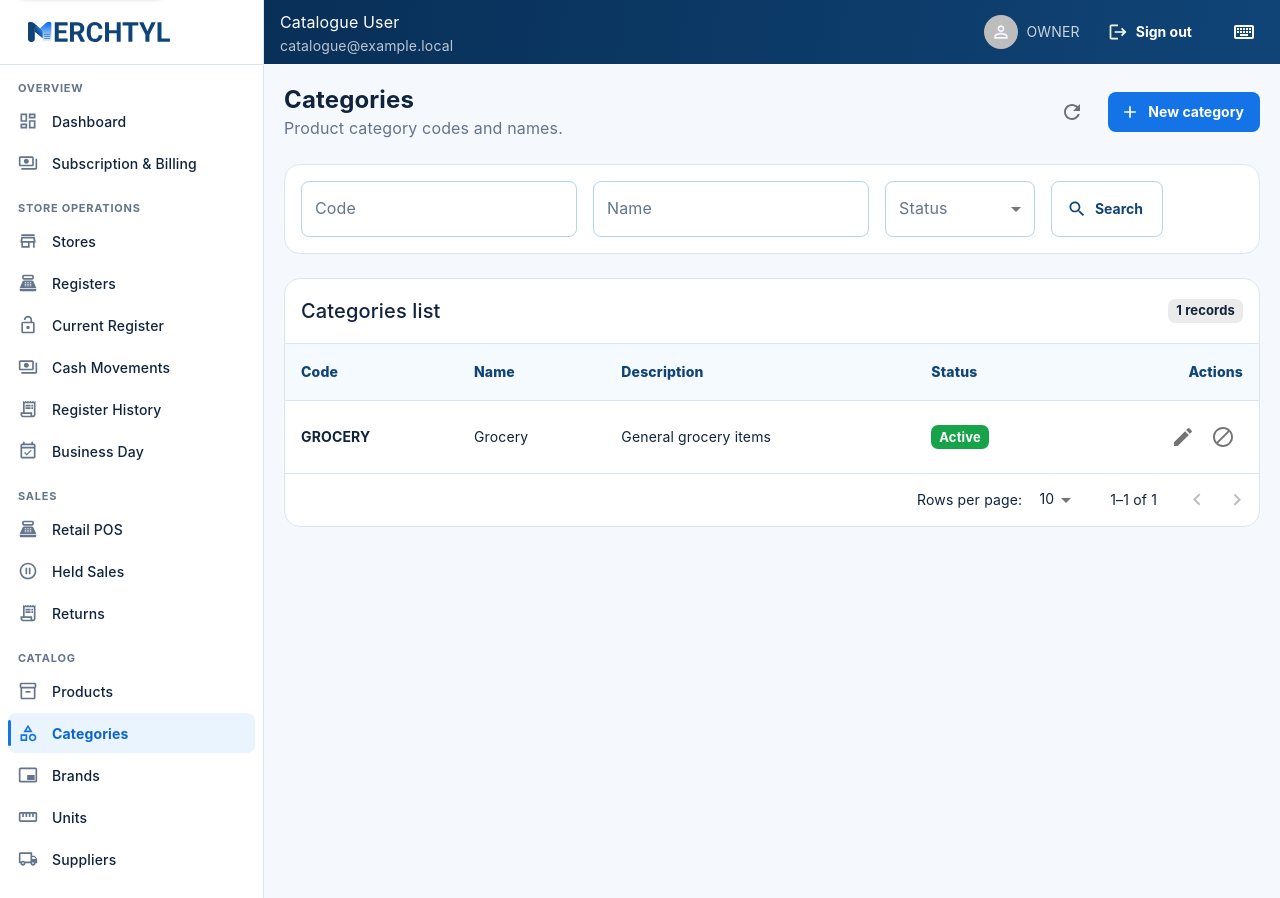
it: Catalogue reference pages › searches, creates, and deactivates categories
Expected: the heading "Categories" is shown, [284, 85, 414, 114]
Expected: the text "Grocery" is shown, [458, 400, 605, 474]
Type "dai" into the field labelled "Name" at (731, 209), box [593, 181, 869, 237]
Click the button "Search" at (1107, 209), box [1051, 181, 1163, 237]
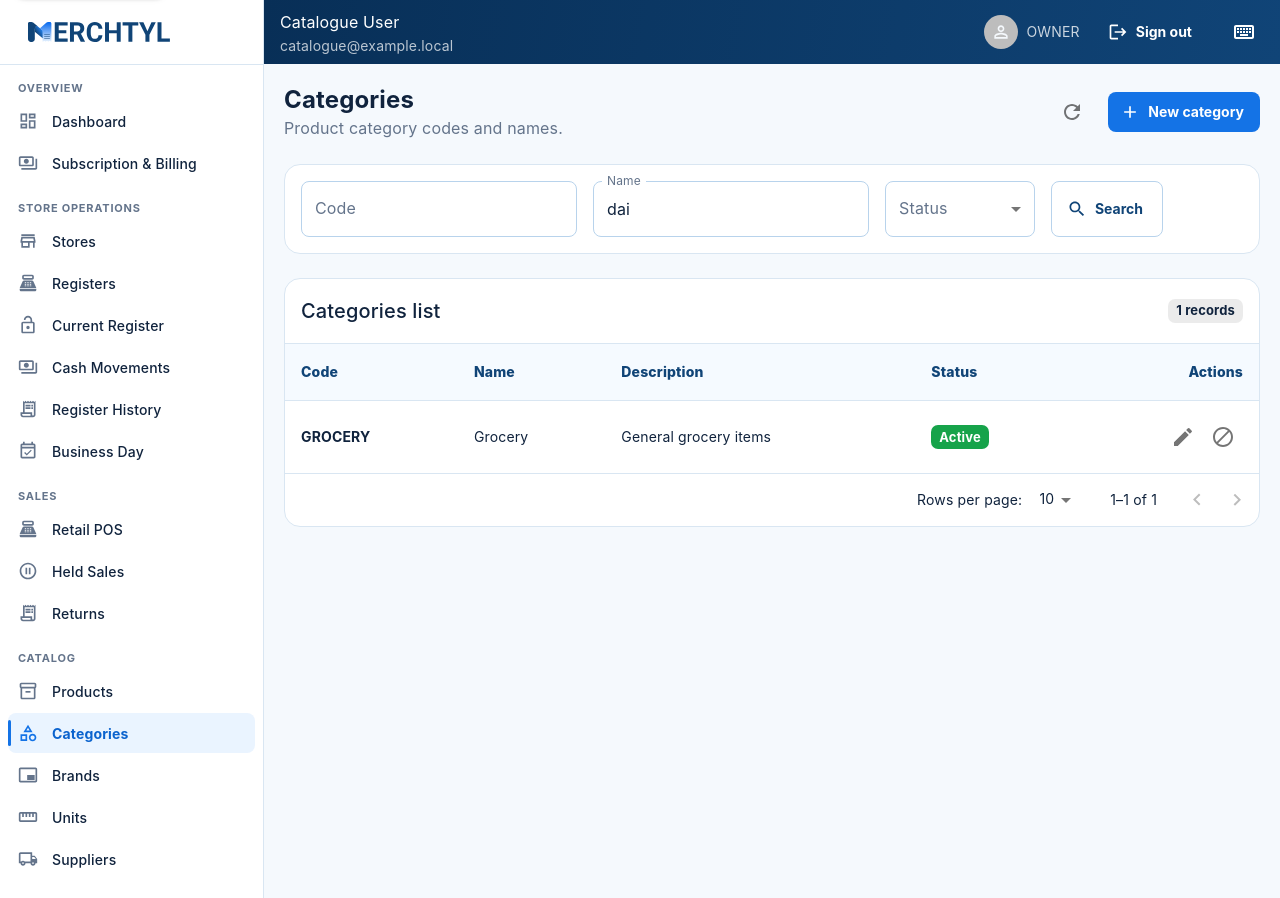
Click the button "New category" at (1184, 112), box [1108, 92, 1260, 132]
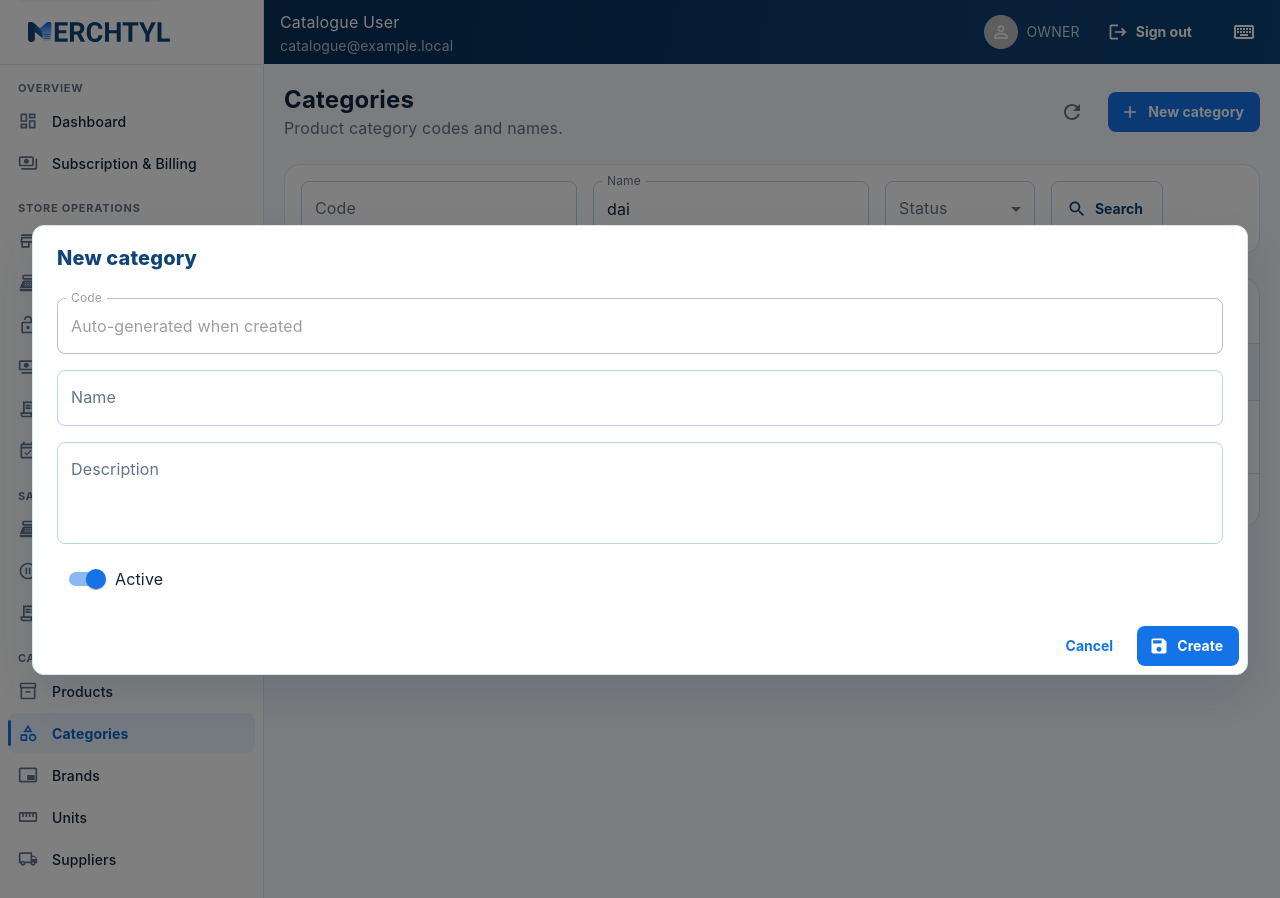
Expected: the field showing "Auto-generated when created" is disabled, [57, 298, 1223, 354]
Type "Dairy" into the field labelled "Name" at (640, 398), box [57, 370, 1223, 426]
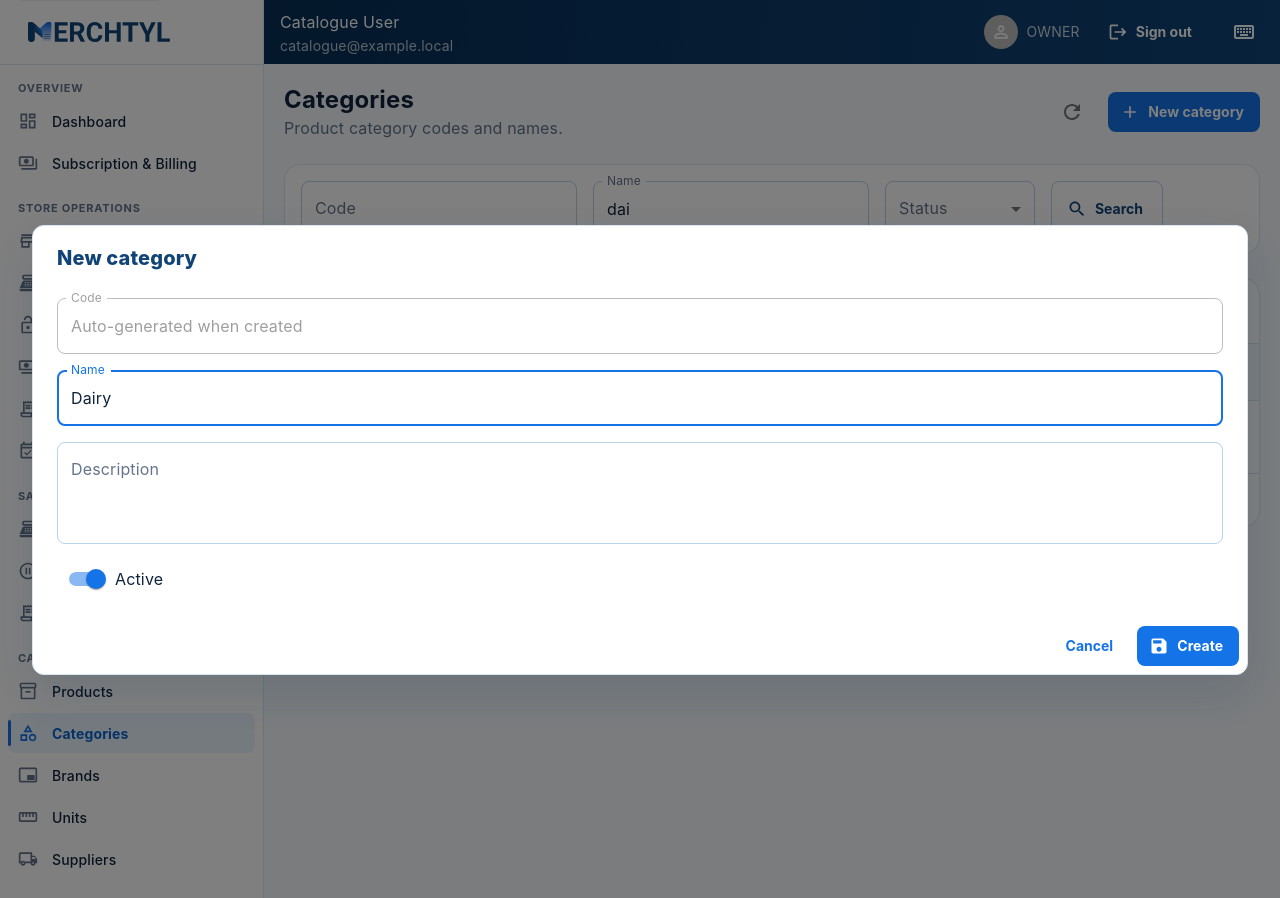
Type "Cold dairy items" into the text box labelled "Description" at (640, 493), box [71, 458, 1209, 528]
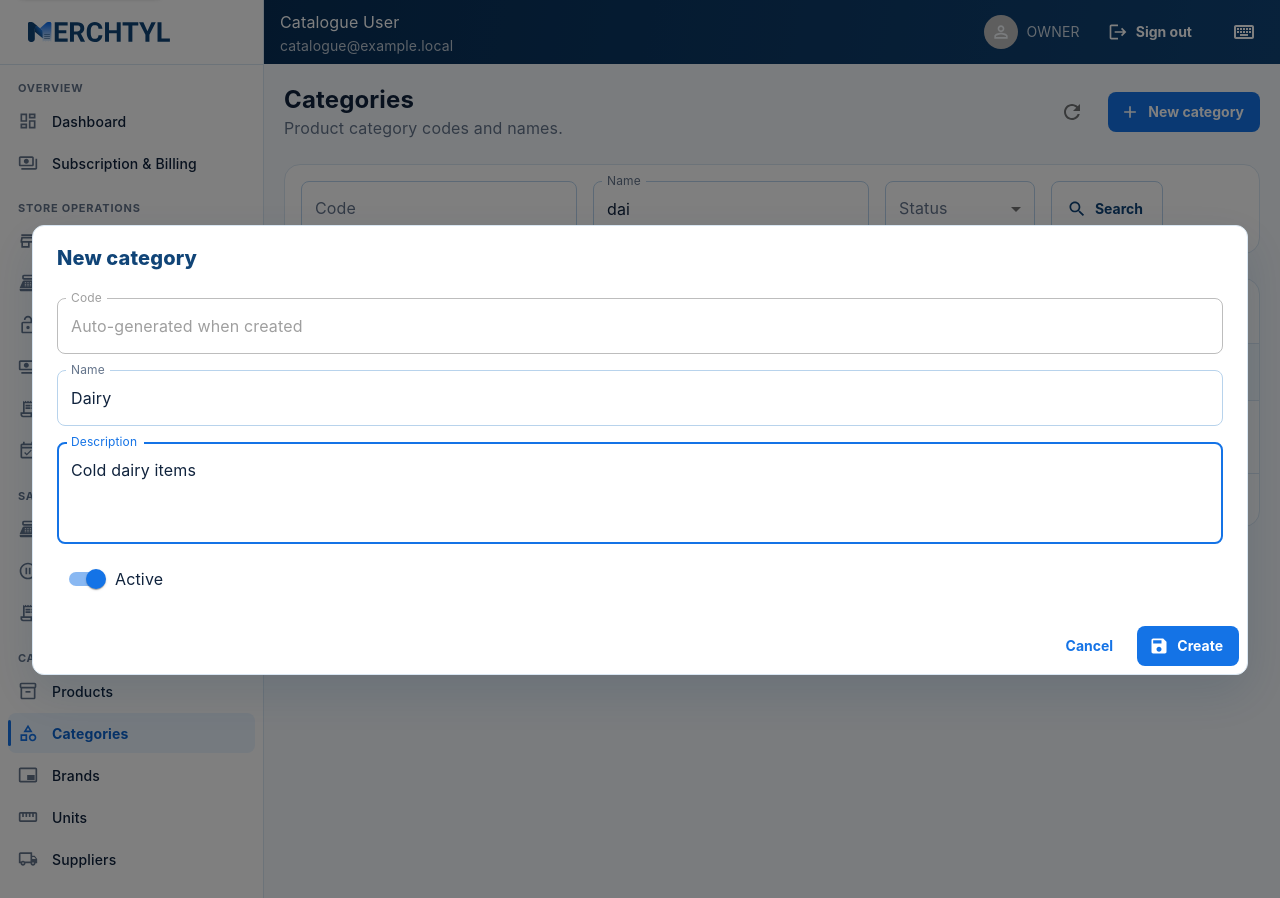
Click the button "Create" at (1188, 646), box [1137, 626, 1239, 666]
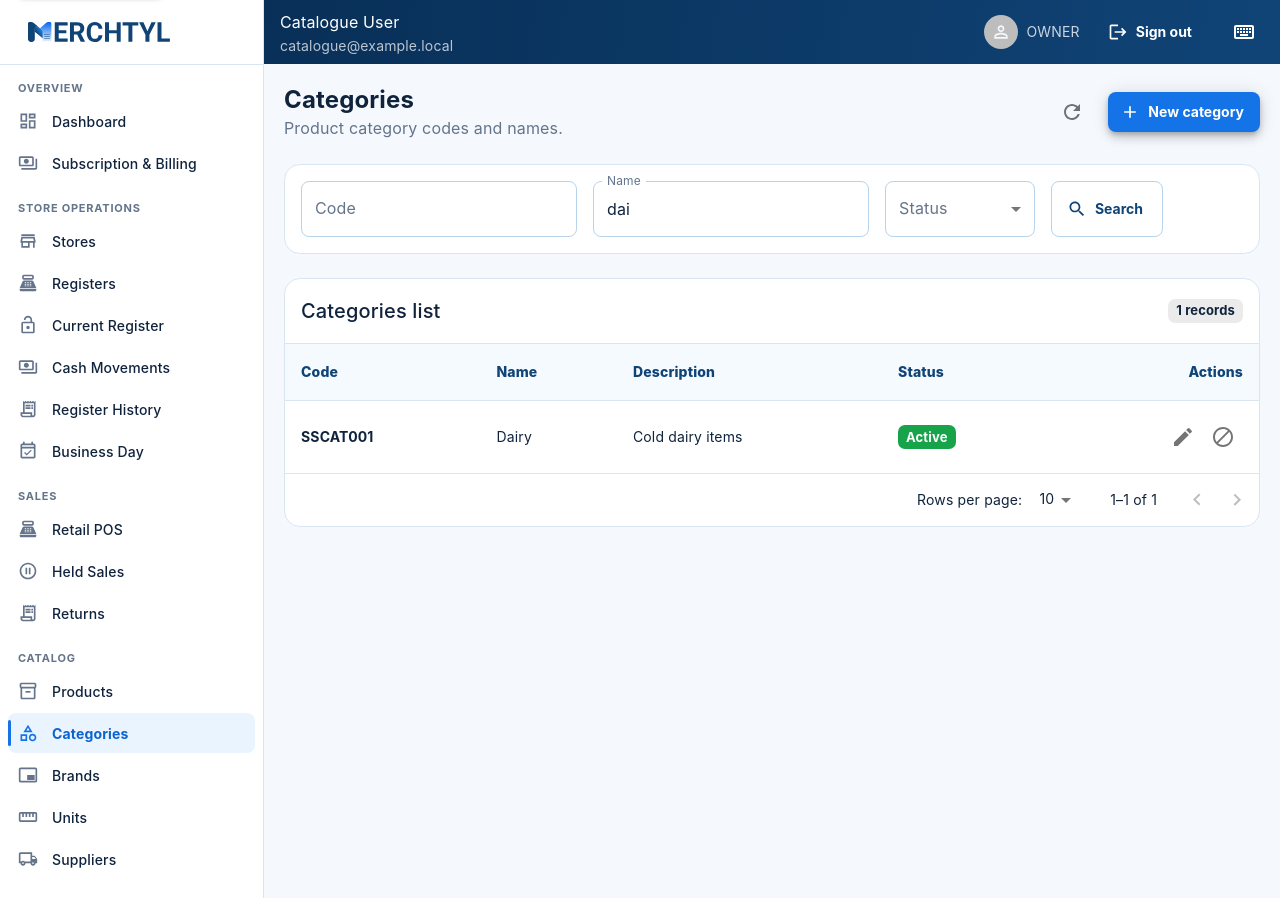
Expected: the text "SSCAT001" is shown, [285, 400, 480, 474]
Click the button named "Deactivate Dairy" at (1223, 437), box [1203, 417, 1243, 457]
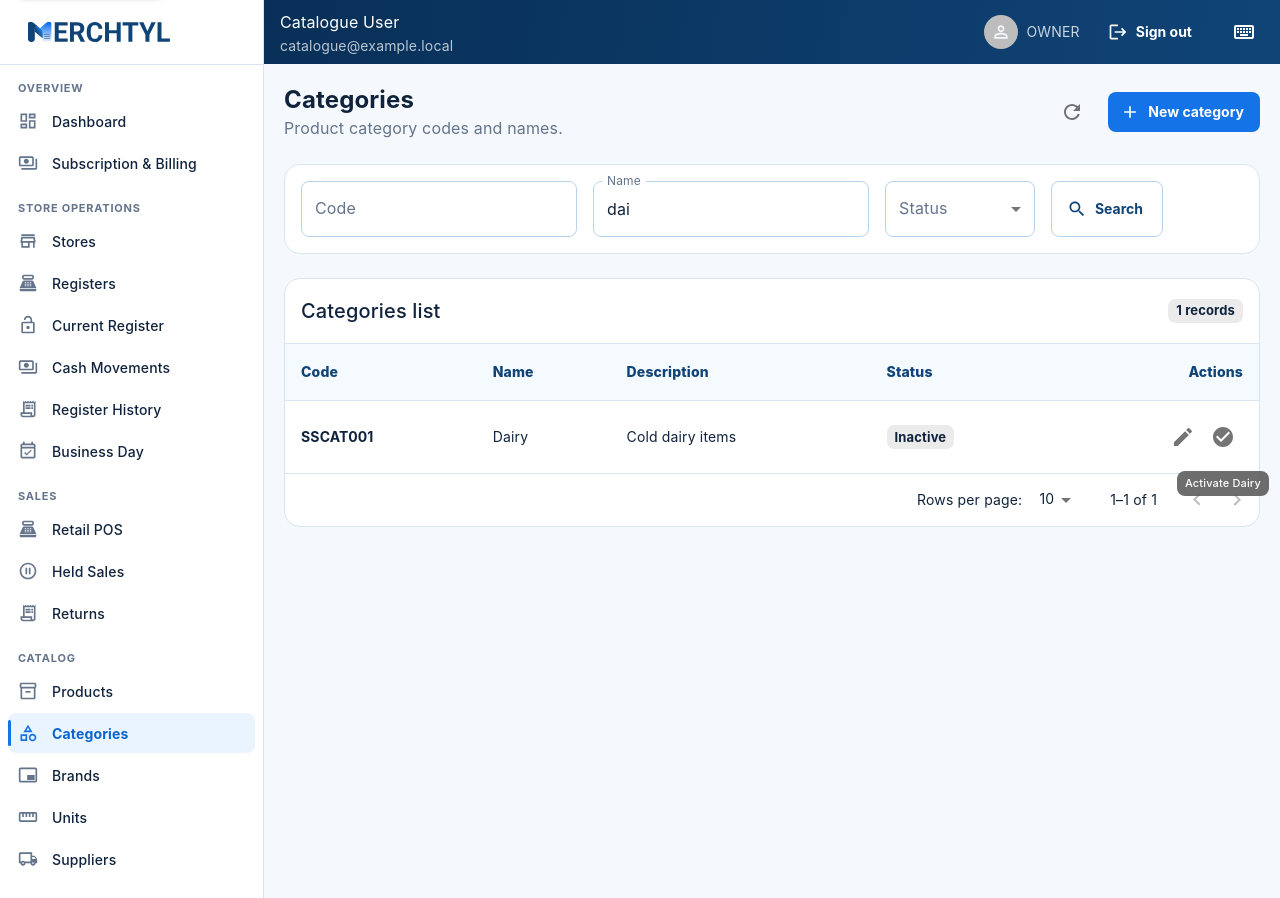
Expected: the text "Inactive" is shown, [894, 429, 946, 445]
